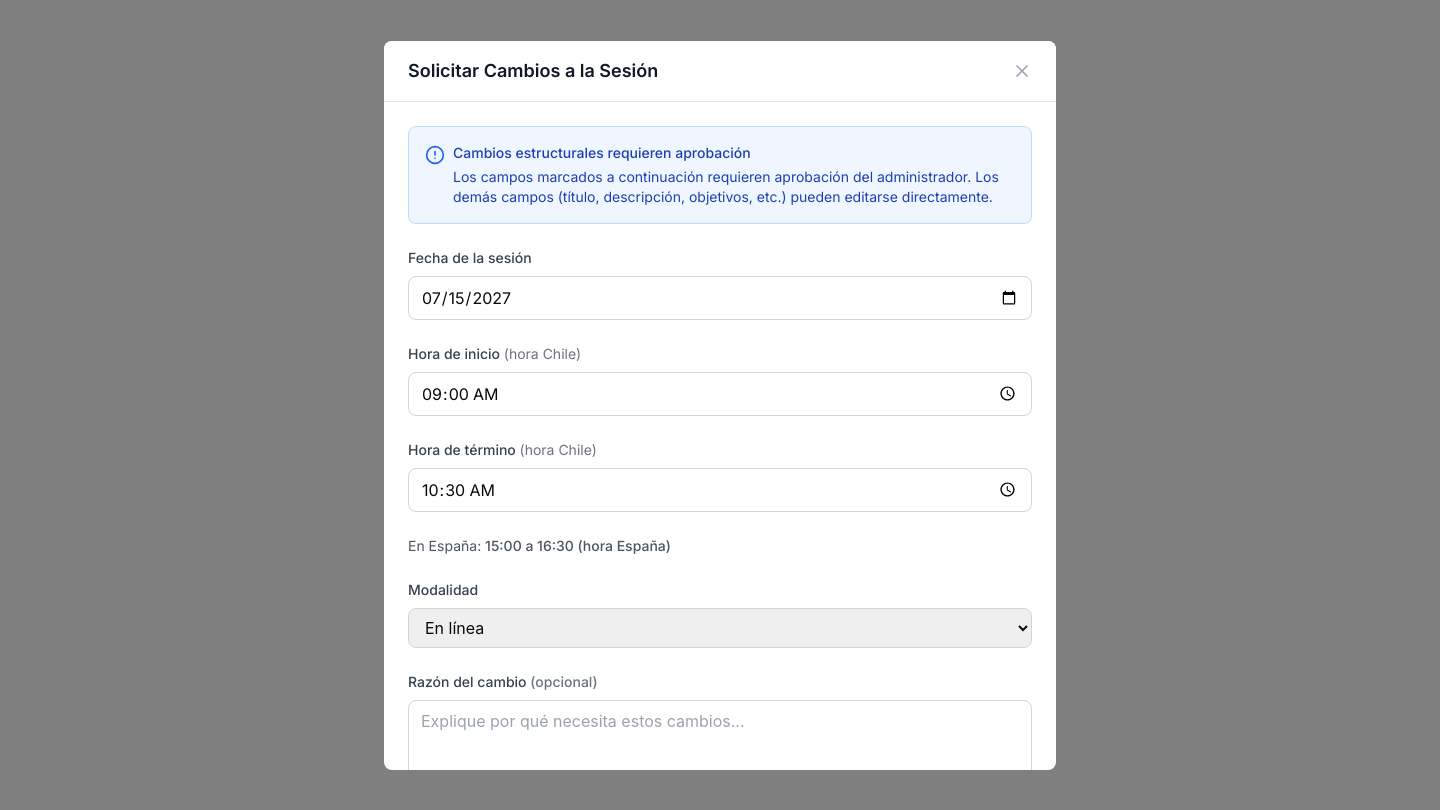
Test: EditRequestModal — dual-zone times › tracks the proposed times, not the stored ones
The image size is (1440, 810).
Replace the text in the time field below "Hora de inicio" with "11:00" at (720, 394), box [408,372,1032,416]
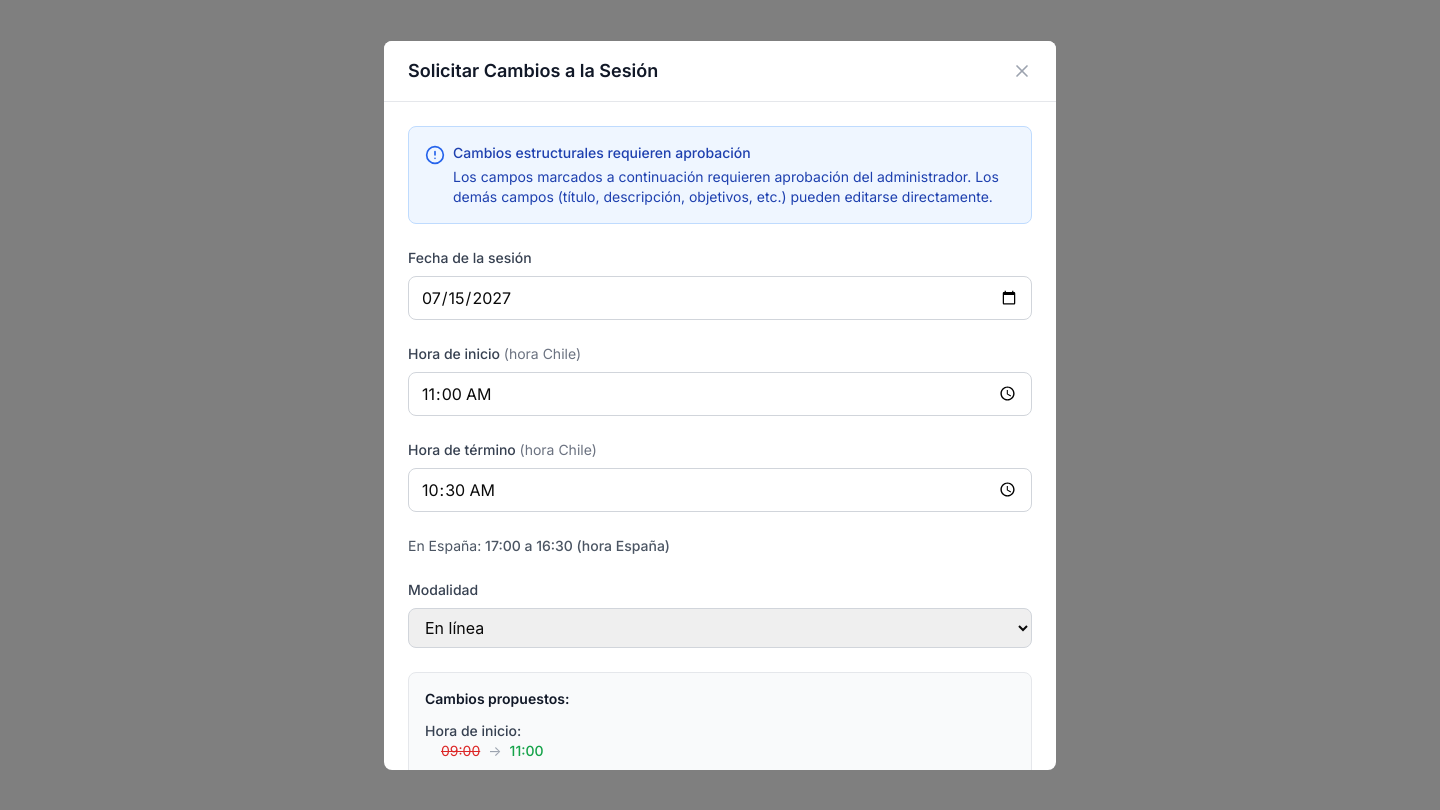
Replace the text in the time field below "Hora de término" with "12:00" at (720, 490), box [408,468,1032,512]
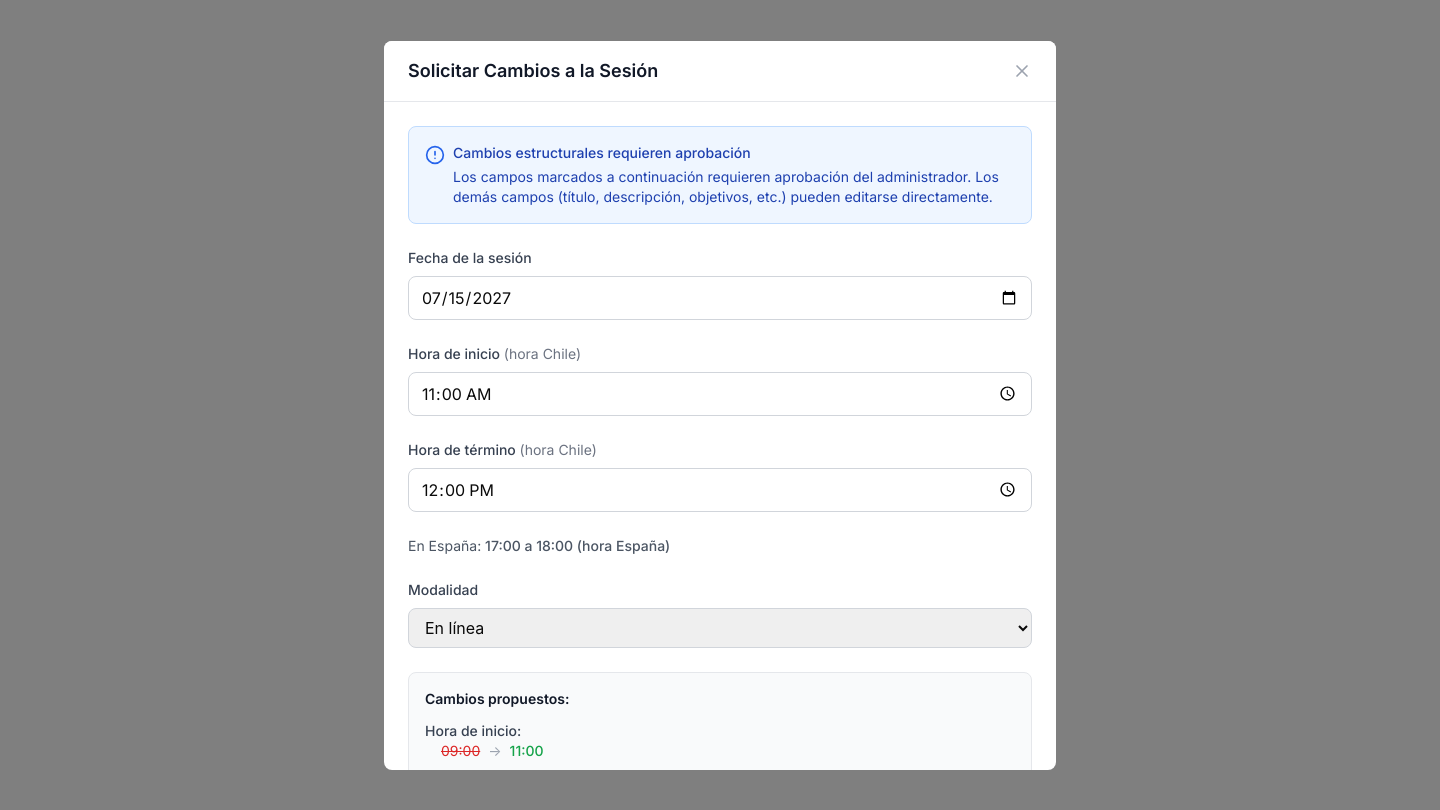
expect the element with test id "edit-request-spain-preview" shows "17:00 a 18:00 (hora España)": met, box [485,536,670,554]
